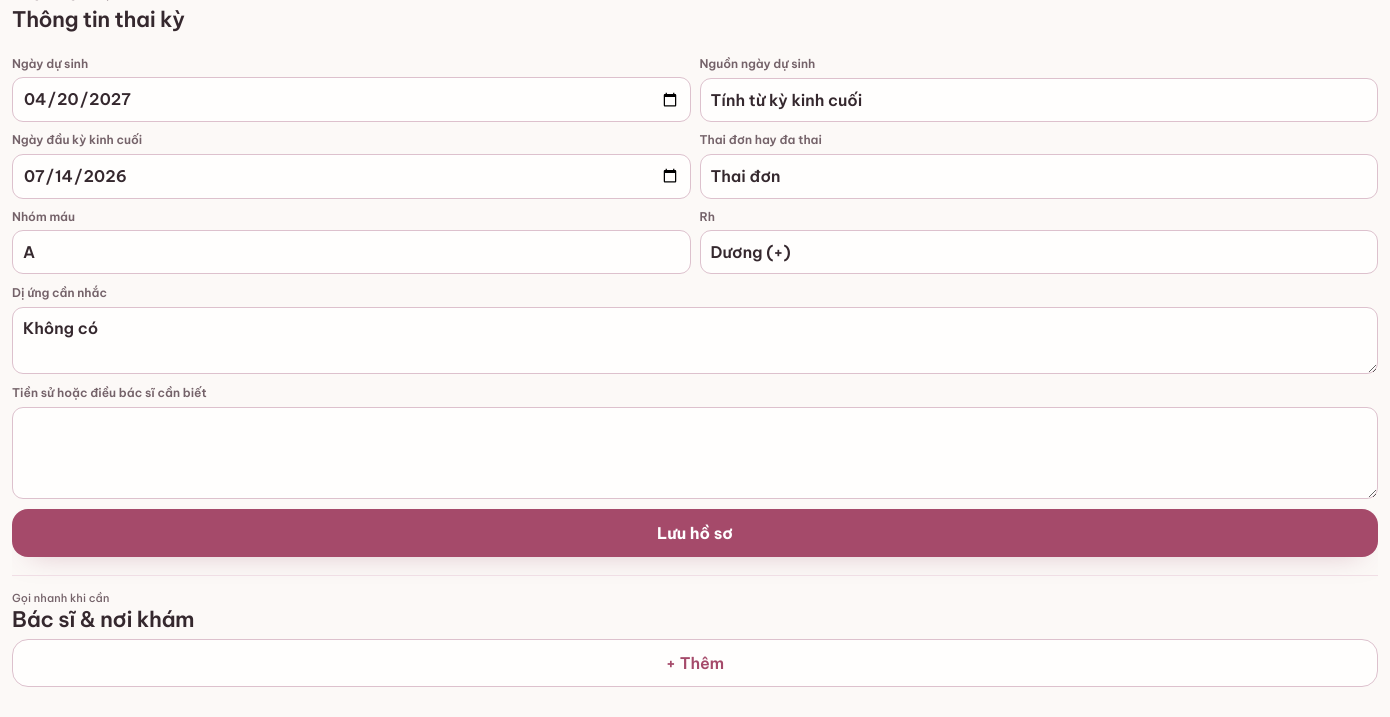
Test: pregnancy profile editor › saves the profile and replaces the form status with a clear success message
Expected: the date field showing "2027-04-20" is shown, [12,77,690,122]
Click the button "Lưu hồ sơ" at x=695, y=533, box [12,509,1378,557]
(page scrolled)
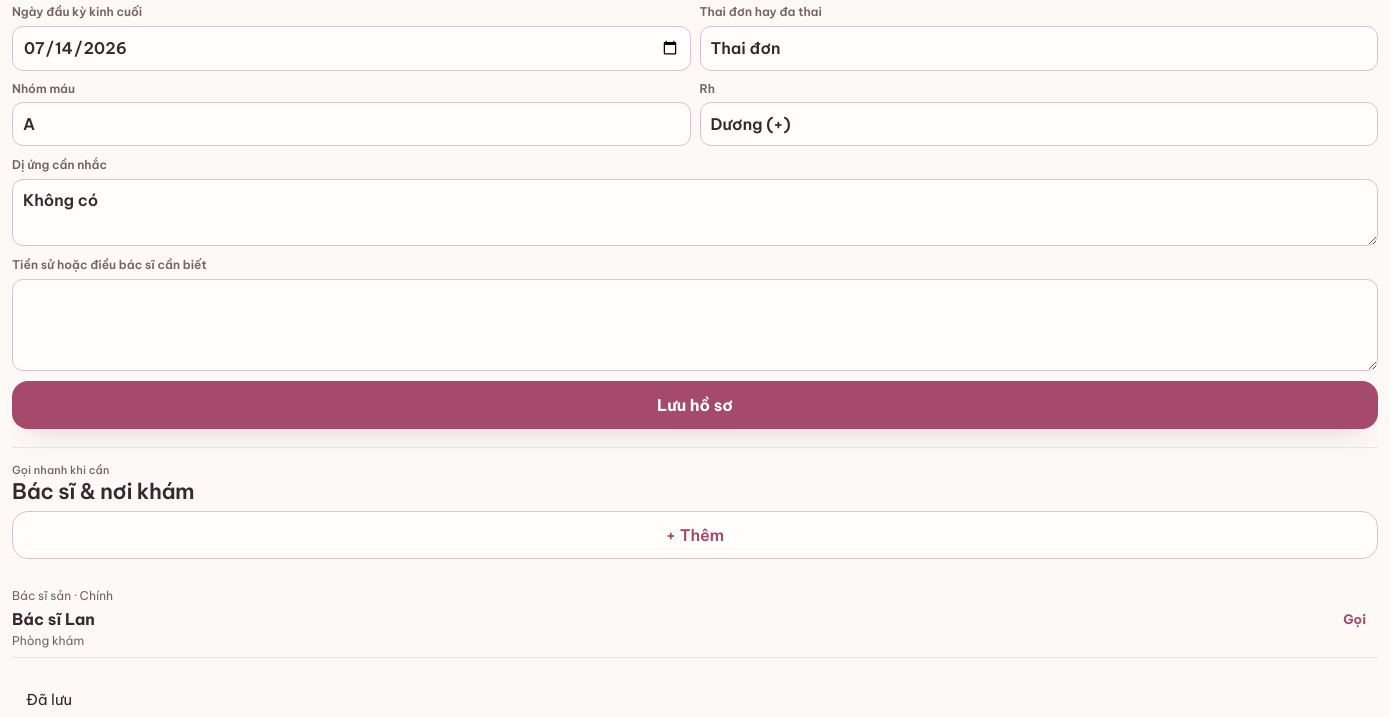
Result: the message reads "Đã lưu" at [26,690,72,709]
